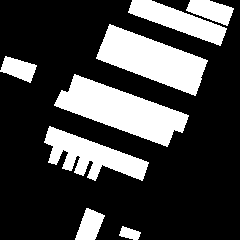parkingspot: (68, 74, 188, 132), (54, 90, 174, 146), (102, 24, 207, 78), (44, 126, 148, 180), (96, 42, 201, 95), (128, 0, 226, 45), (186, 0, 233, 25), (0, 56, 36, 82), (75, 208, 104, 240), (119, 226, 140, 240), (74, 156, 89, 175), (48, 146, 62, 164), (62, 152, 76, 170), (87, 162, 101, 180)
